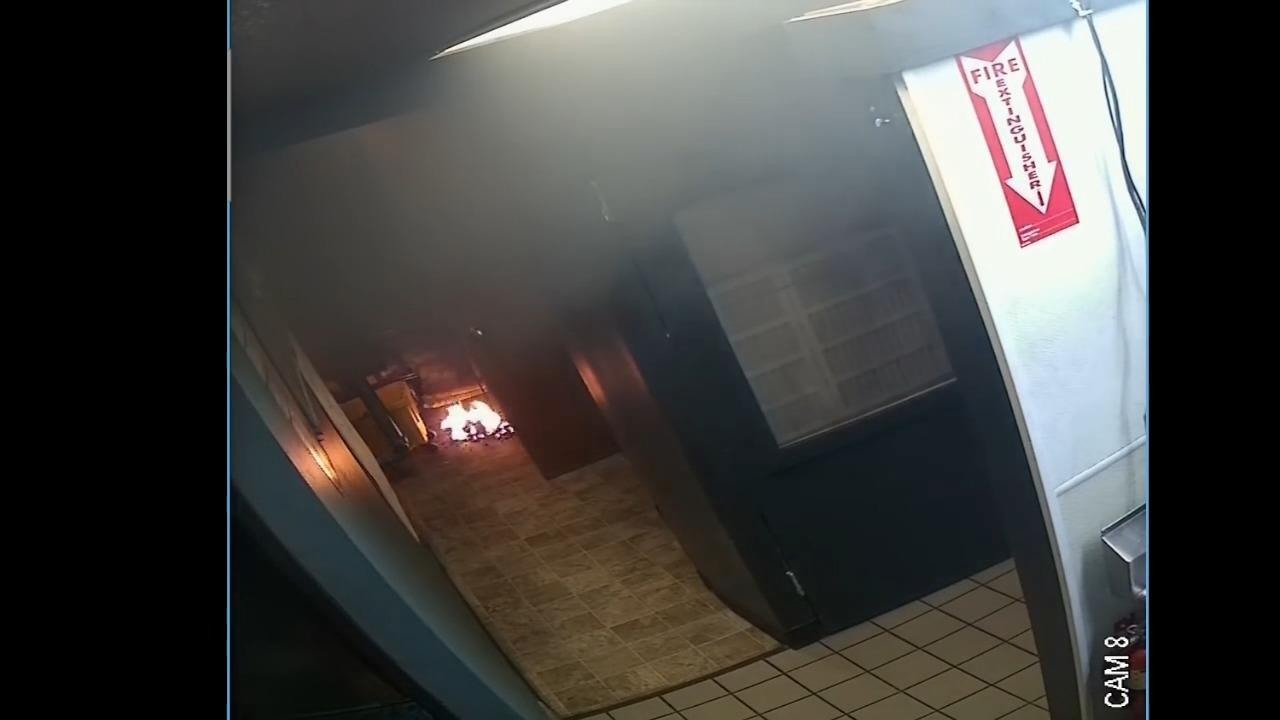fire: (440, 402, 501, 442)
